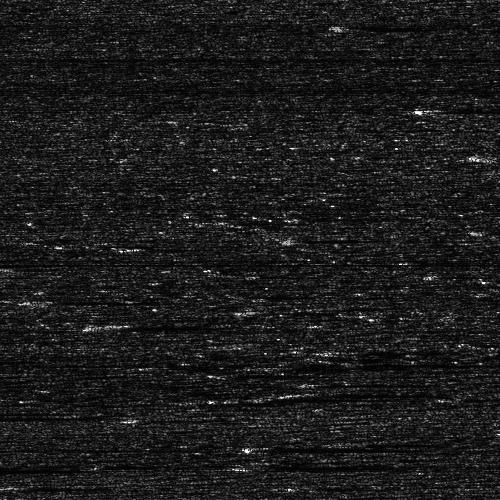object: (216, 461, 299, 470), (242, 359, 305, 368), (74, 321, 137, 330), (449, 151, 500, 162), (0, 296, 77, 303), (269, 390, 322, 397), (415, 104, 468, 111), (324, 22, 365, 31), (0, 411, 28, 420), (302, 380, 343, 385), (241, 441, 252, 450)
shadow: (345, 22, 495, 31), (274, 359, 422, 368), (296, 390, 443, 397), (0, 411, 107, 420), (35, 296, 168, 303), (258, 461, 360, 470), (247, 441, 346, 450), (105, 321, 198, 330), (0, 493, 116, 500), (323, 380, 423, 385), (0, 256, 38, 267), (441, 104, 500, 111), (0, 204, 26, 217), (0, 465, 21, 468)
